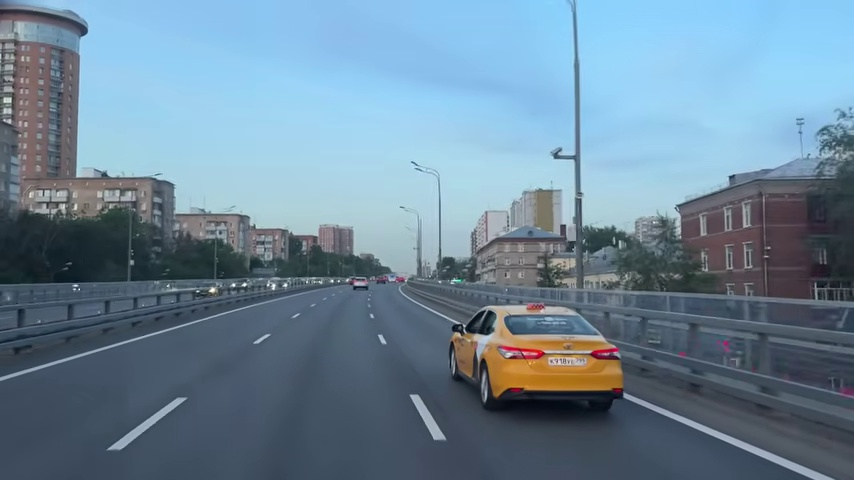apagada: (161, 394, 188, 419), (407, 157, 426, 178), (549, 146, 570, 164)
